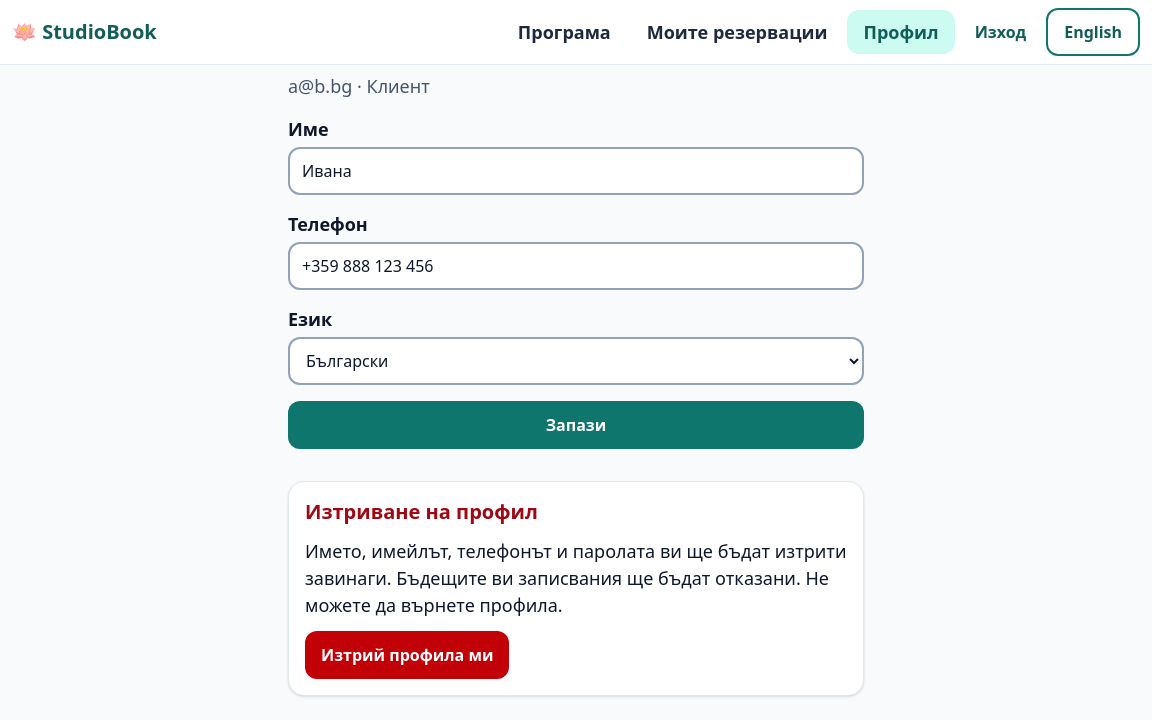
Test: client pages › AC-5: delete account requires password and logs out
(page scrolled)
Click the button "Изтрий профила ми". click: x=407, y=655
box: [305,631,509,679]
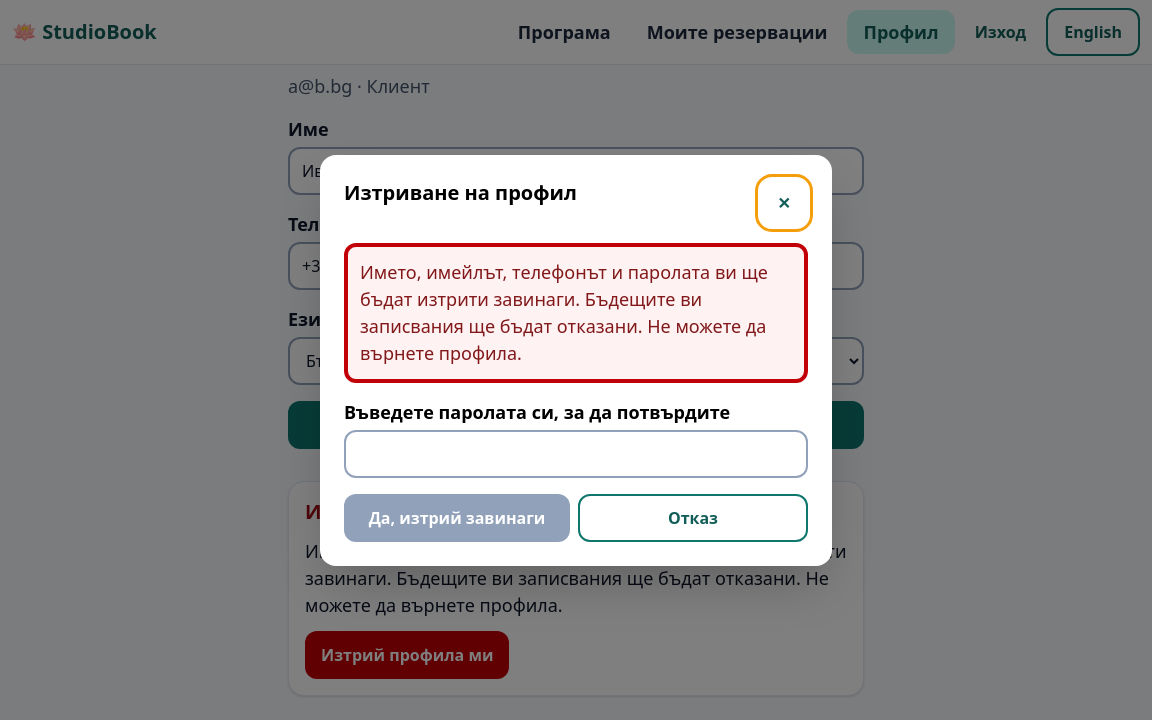
Now the button "Да, изтрий завинаги" is disabled, box [344,494,570,542]
Type "secret123" into the password field labelled "Въведете паролата си, за да потвърдите". click: x=576, y=454
box: [344,430,808,478]
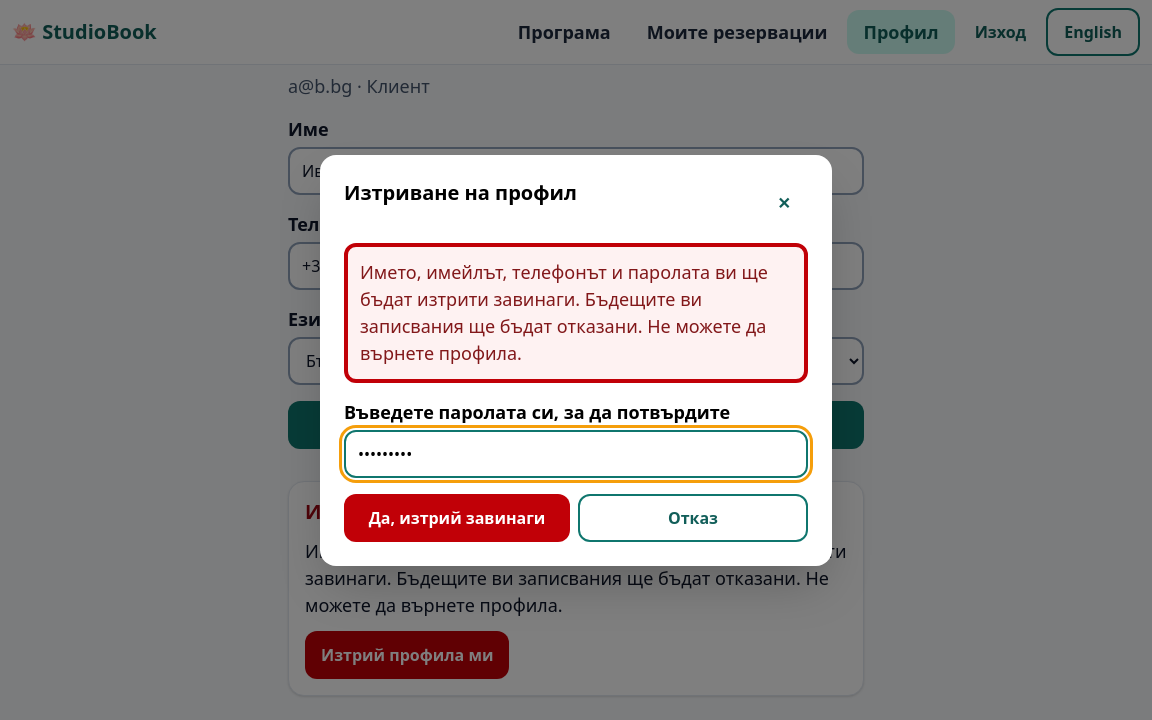
Click the button "Да, изтрий завинаги". click: x=457, y=518
box: [344,494,570,542]
(page scrolled)
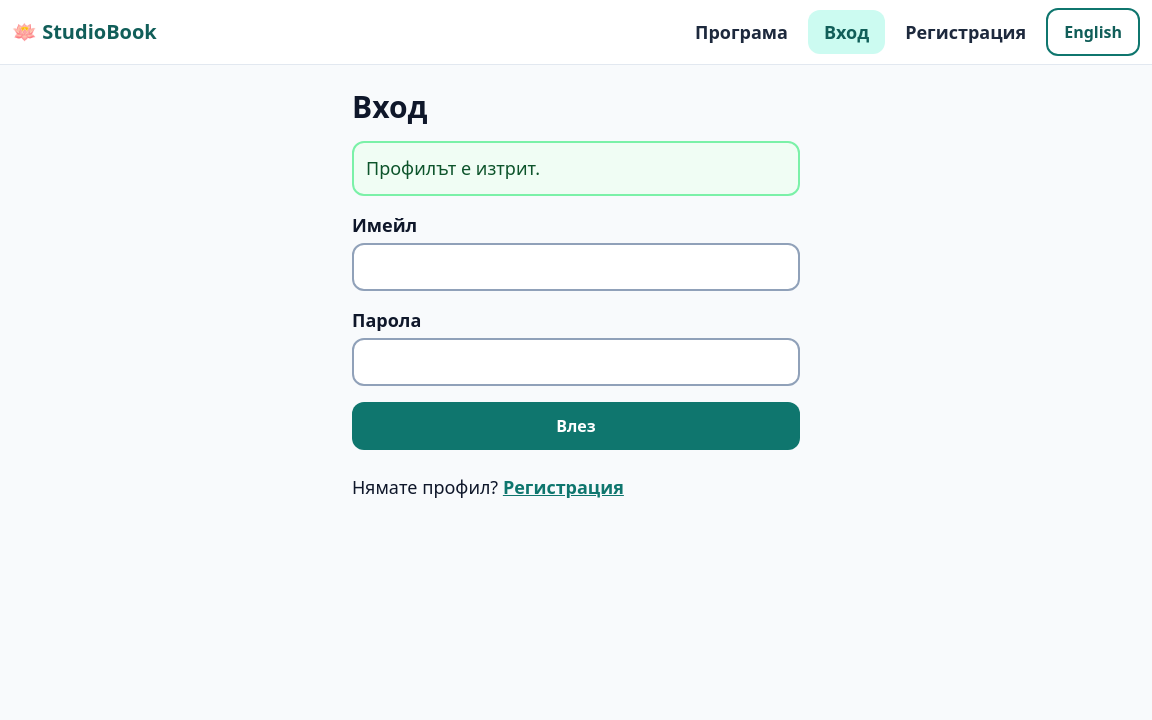
Now the heading "Вход" is shown, box [352,86,427,127]
Now the text "Профилът е изтрит." is shown, box [352,141,800,196]
